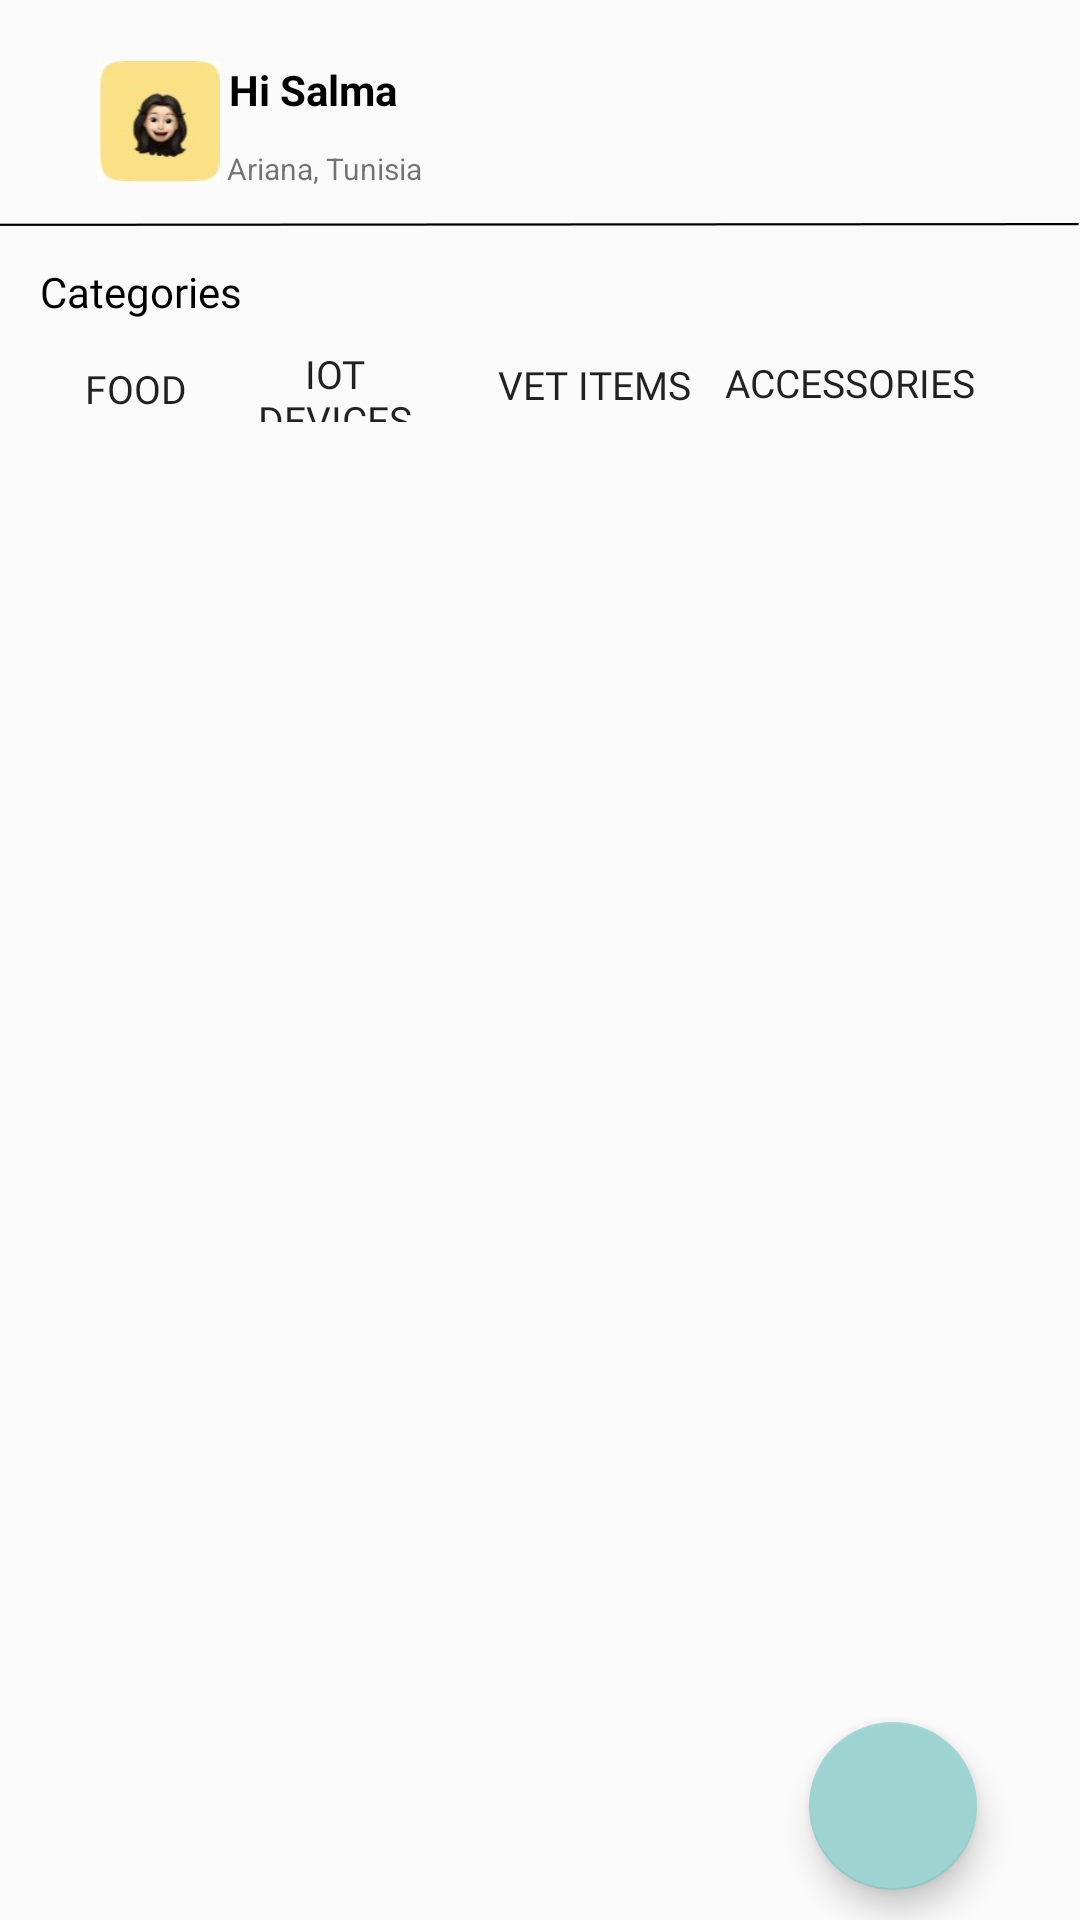

Point at icon controls on the screen. Image size 1080 × 1920, points as point (x, y).
profile: point (159, 121)
